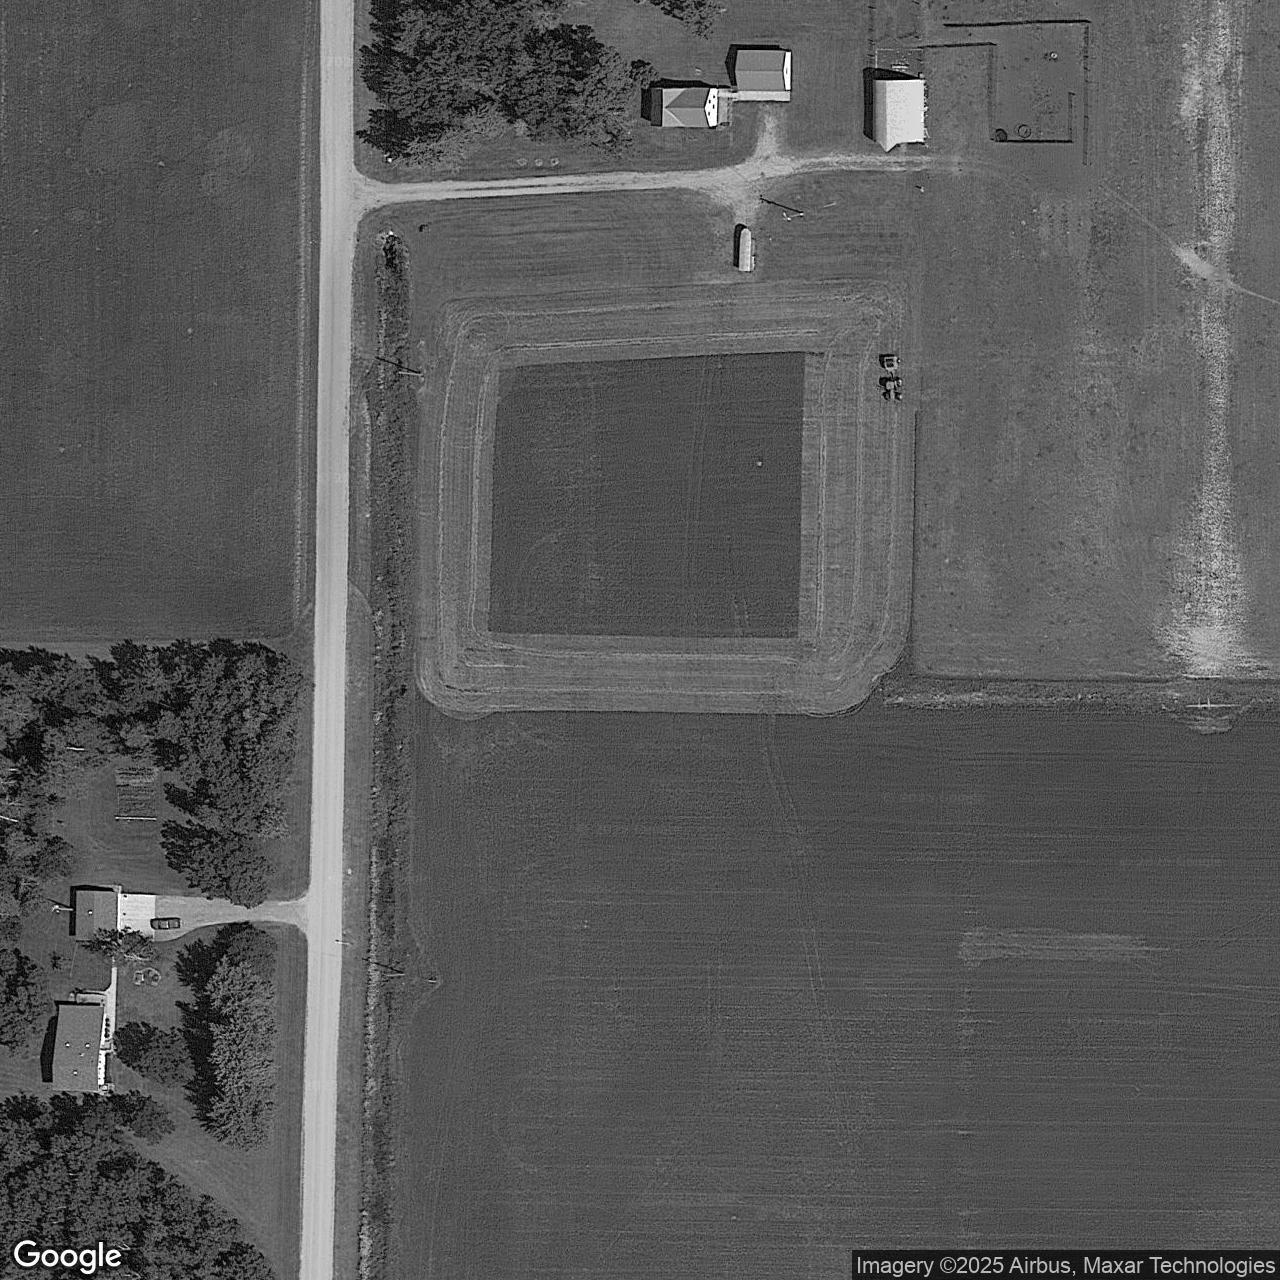Garage: (75, 891, 120, 942)
House: (53, 1005, 104, 1091), (873, 80, 924, 152), (735, 50, 791, 91), (662, 88, 717, 128)
